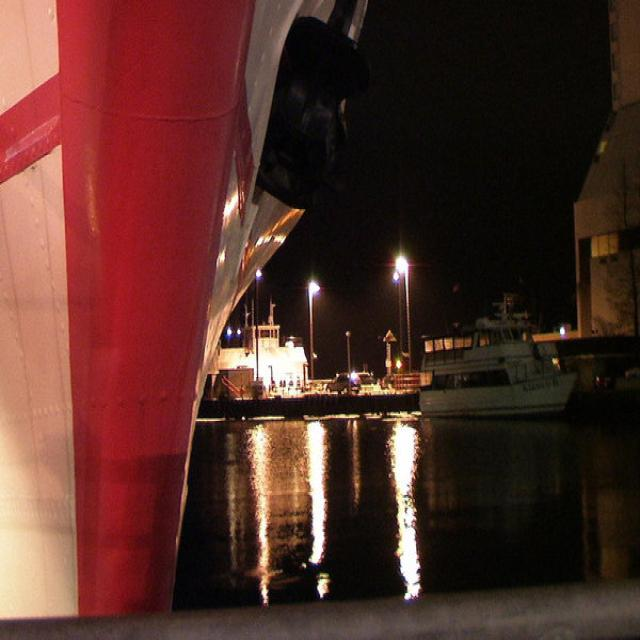Boat: (0, 0, 365, 640), (410, 322, 581, 418), (193, 330, 322, 398)
